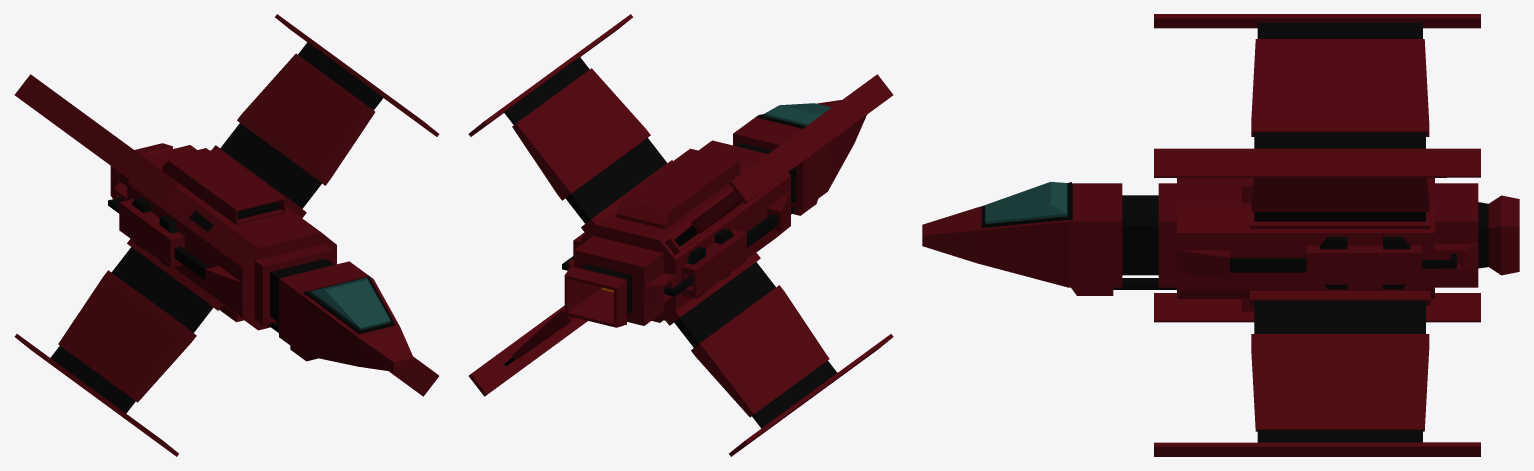
The model's file is EnemyShip1.fbx.
3 renders of one model, left to right at view 1: azimuth 30°, elevation 25°; view 2: azimuth 150°, elevation 25°; view 3: azimuth 270°, elevation 25°, orthographic. The views are drawn at different scales.
Parts seen in each view (by area): view 1: Fighter_2; view 2: Fighter_2; view 3: Fighter_2.
Part boxes in pixels (x1=…): Fighter_2: x1=14, y1=14, x2=439, y2=456; Fighter_2: x1=468, y1=14, x2=893, y2=456; Fighter_2: x1=922, y1=14, x2=1519, y2=456.
Bounding box in the file's own units: 39.68 × 37.49 × 65.8.
